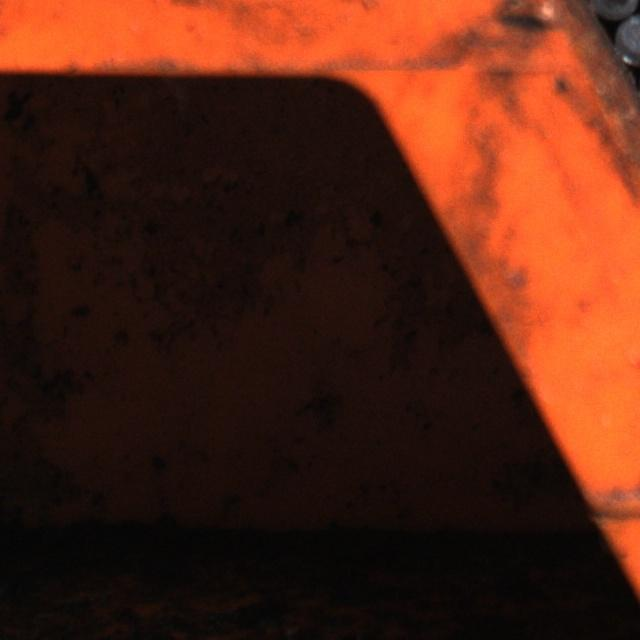tool: (613, 12, 640, 62)
